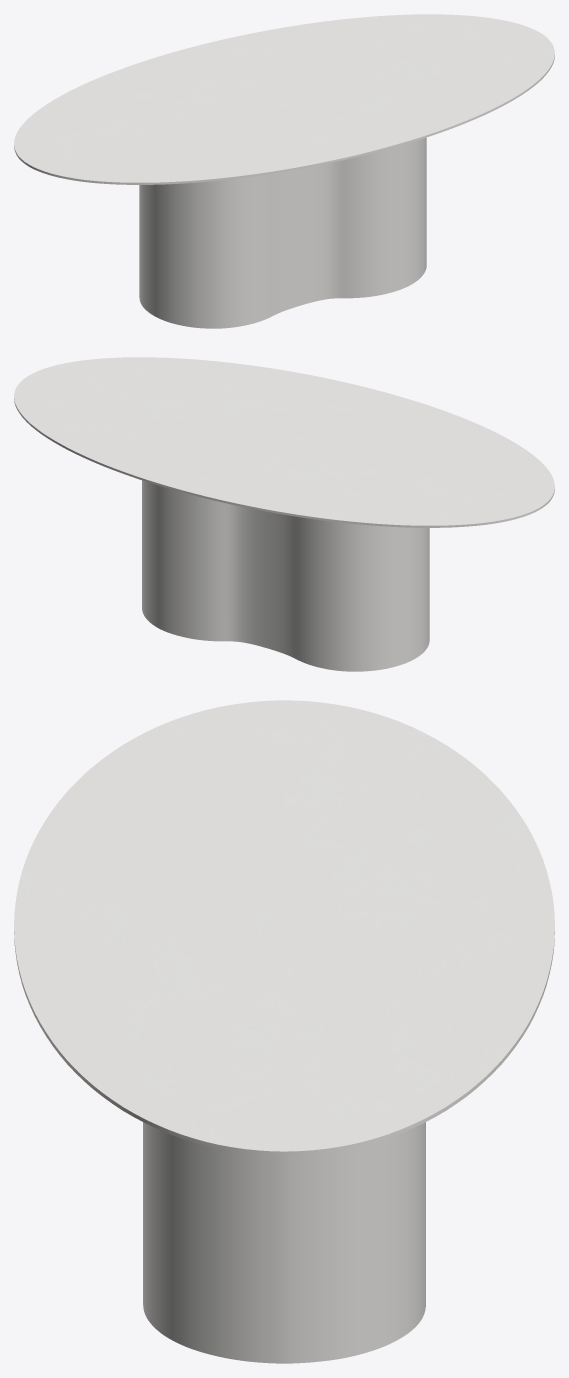
File: purewhite_ellips_facet_riverwave.glb
3 views of the same model, one above another, from view 1: azimuth 30°, elevation 25°; view 2: azimuth 150°, elevation 25°; view 3: azimuth 270°, elevation 25° (orthographic). The views are drawn at different scales.
Parts seen in each view (by area): view 1: facet_ellips, riverwave; view 2: facet_ellips, riverwave; view 3: facet_ellips, riverwave.
Boxes of the visible parts, x1,y1,x2,y2 form: facet_ellips: (14,14,554,184); riverwave: (139,137,426,328); facet_ellips: (14,357,554,527); riverwave: (142,480,429,671); facet_ellips: (14,700,554,1155); riverwave: (143,1122,425,1363).
Size of the model in its own units: 7.5 by 2.51 by 3.8.
1 material, 1 textured.
